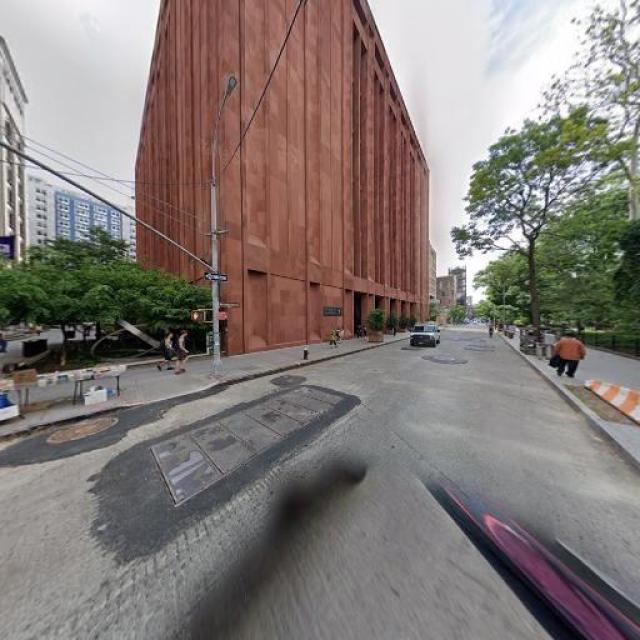Building: (159, 1, 420, 358)
